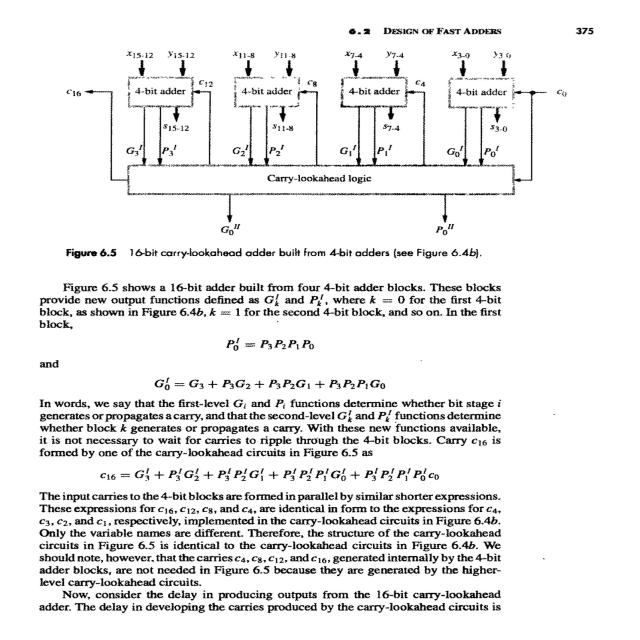diagram: (34, 41, 640, 270)
